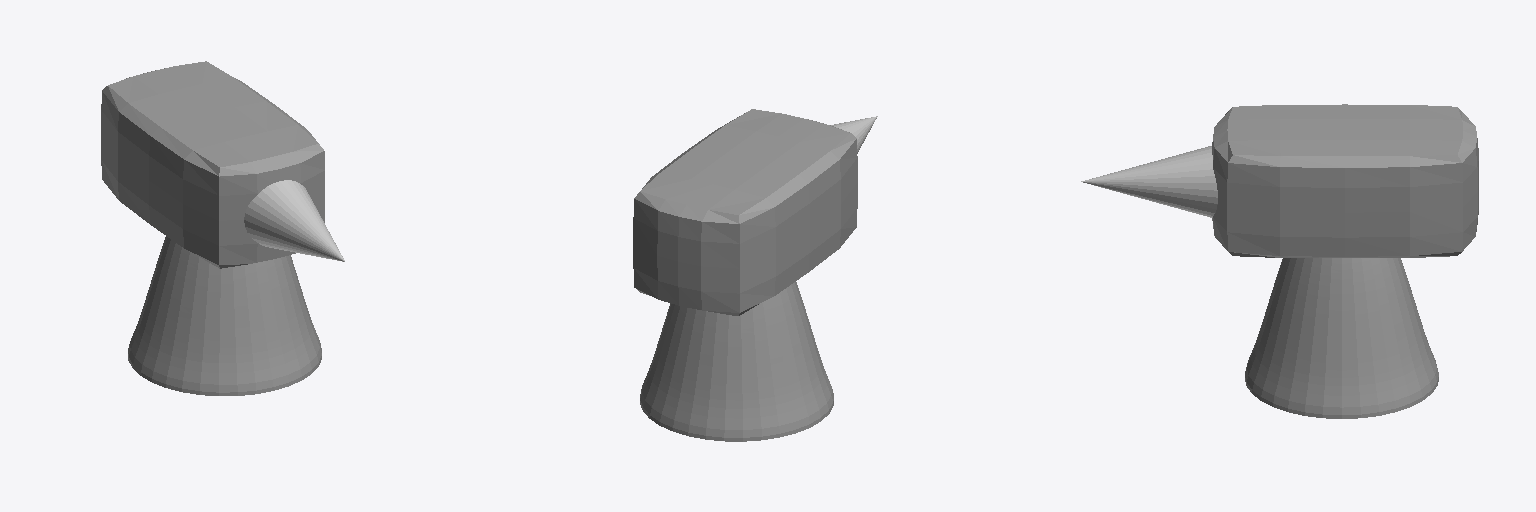
The model's file is forge.obj.
3 renders of one model, left to right at view 1: azimuth 30°, elevation 25°; view 2: azimuth 150°, elevation 25°; view 3: azimuth 270°, elevation 25°, orthographic.
Visible parts, largest first — view 1: base_Cube.003, Pointe_Cube.000; view 2: base_Cube.003, Pointe_Cube.000; view 3: base_Cube.003, Pointe_Cube.000.
Boxes of the visible parts, x1=… form: base_Cube.003: x1=101, y1=61, x2=324, y2=395; Pointe_Cube.000: x1=244, y1=180, x2=344, y2=261; base_Cube.003: x1=633, y1=109, x2=857, y2=441; Pointe_Cube.000: x1=831, y1=116, x2=877, y2=153; base_Cube.003: x1=1212, y1=104, x2=1478, y2=418; Pointe_Cube.000: x1=1081, y1=146, x2=1217, y2=217.
Size of the model in its own units: 0.3885 by 0.5368 by 0.7953.